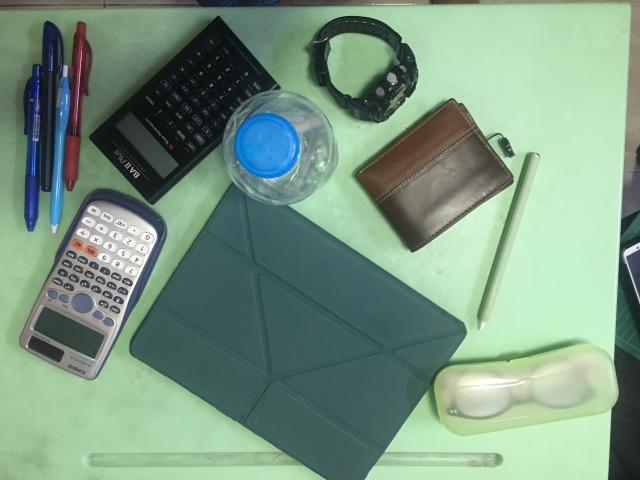Glasses: (435, 344, 619, 435)
Pen: (24, 21, 69, 232), (64, 21, 92, 191)
Wallet: (356, 99, 514, 251)
Watch: (310, 16, 419, 122)
bottle: (222, 90, 338, 205)
